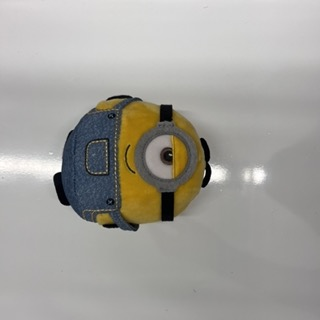minion: (53, 94, 212, 232)
